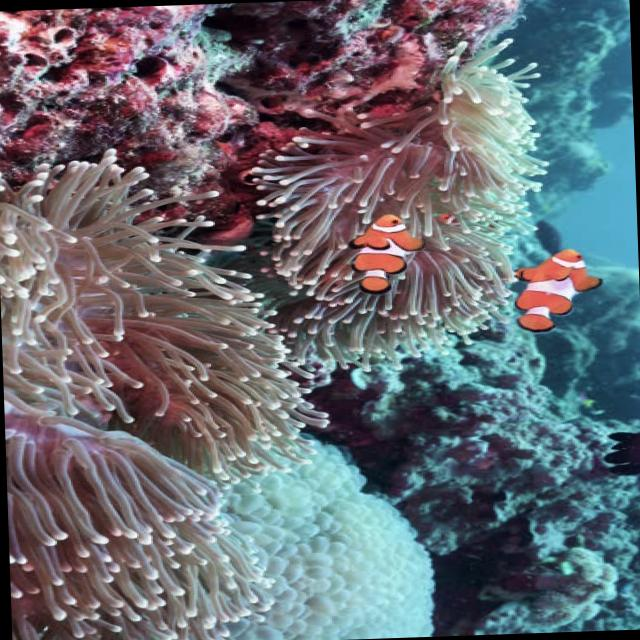ClownFish: (500, 245, 606, 331), (346, 216, 419, 295)
